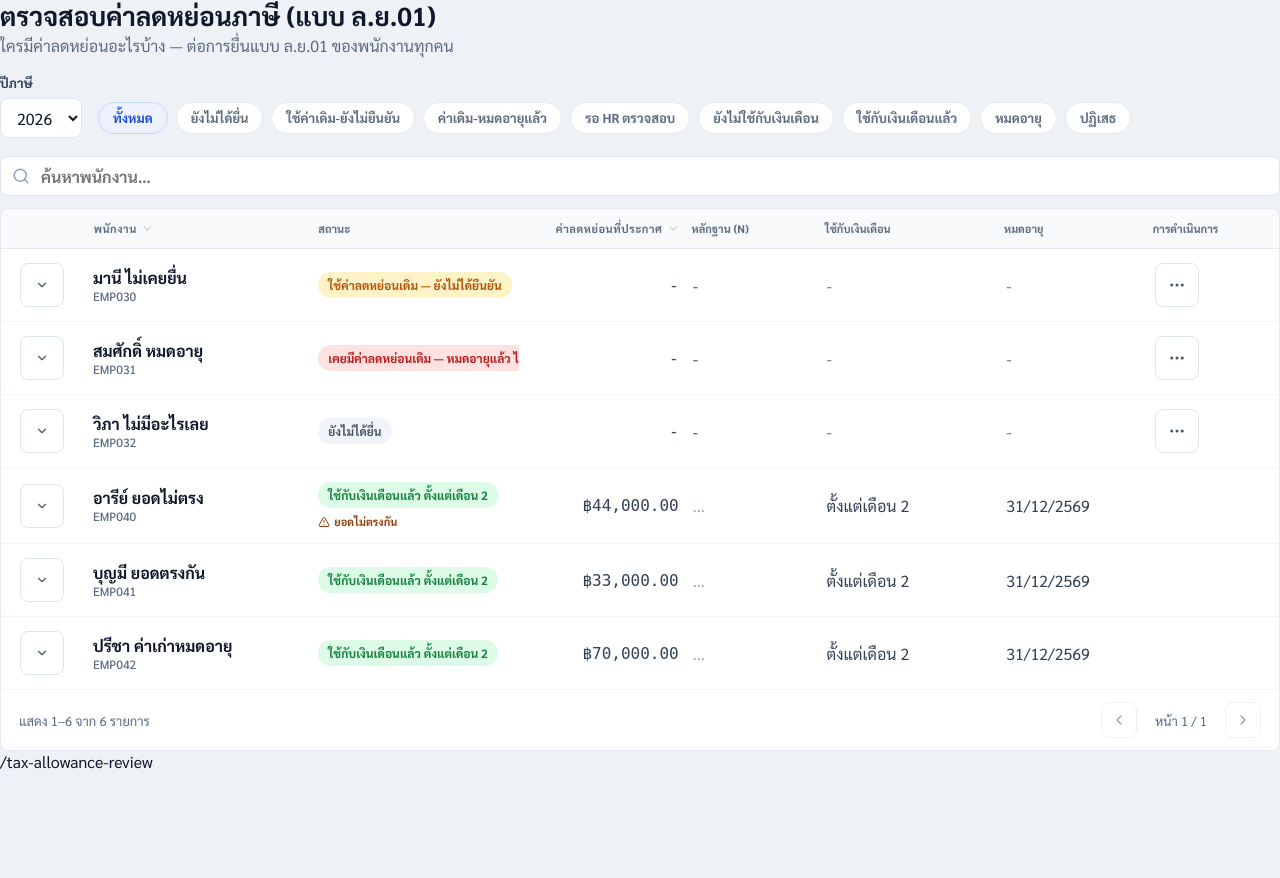
TaxAllowanceReviewPage › payroll-side allowance (hr.employee_tax_allowance, a second table) › shows the payroll figure and verification state in the expanded row
Check: the text "มานี ไม่เคยยื่น" is shown, box [93,267,187,288]
What coordinates should you click on to do the following:
click the button named "ดูรายละเอียดค่าลดหย่อนของ มานี ไม่เคยยื่น เทียบเพดาน"
I would click on:
 (42, 285)
Its box is [20,263,64,307].
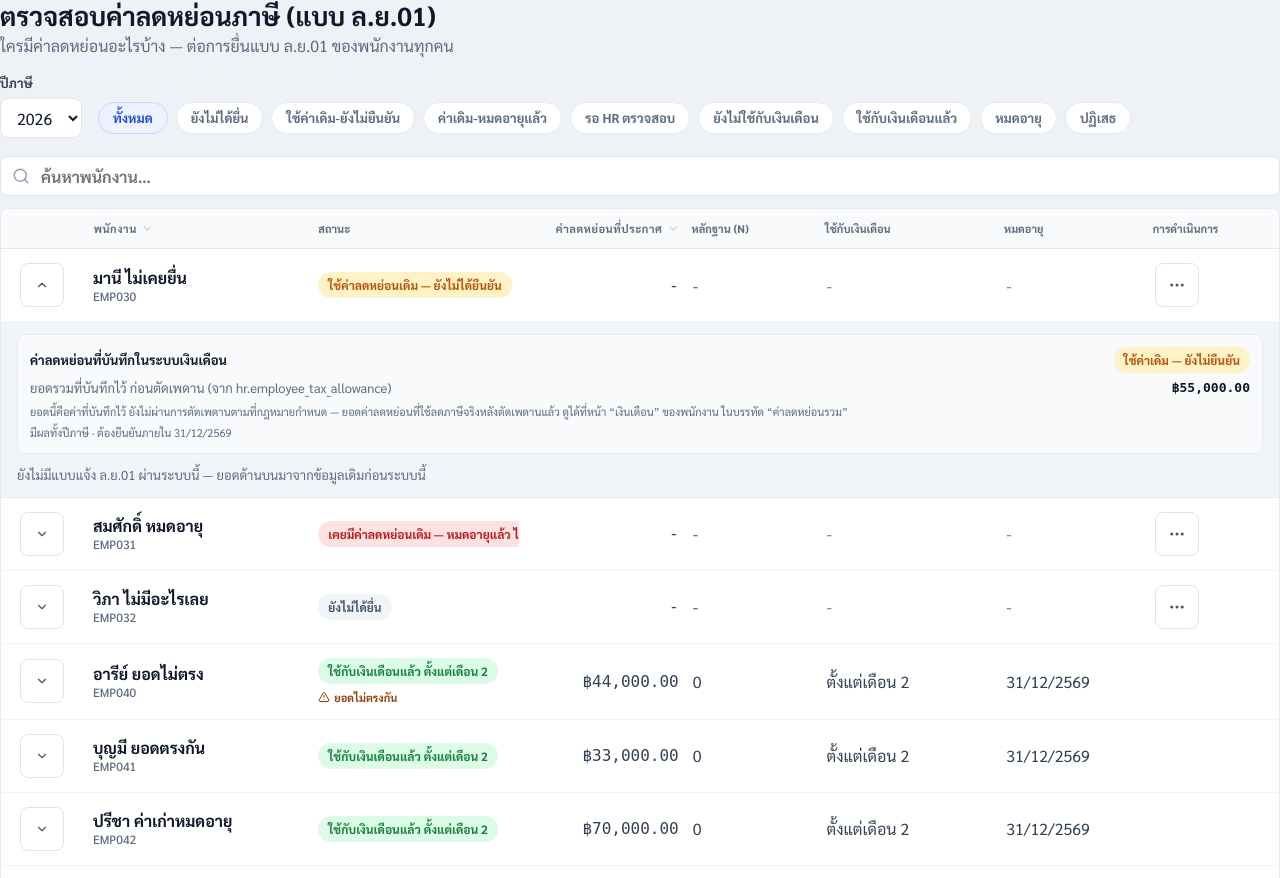
Check: the text "ค่าลดหย่อนที่บันทึกในระบบเงินเดือน" is shown, box [30,351,227,370]
Check: the text "฿55,000.00" is shown, box [1172,379,1250,398]
Check: the text "ใช้ค่าเดิม — ยังไม่ยืนยัน" is shown, box [1114,347,1250,373]
